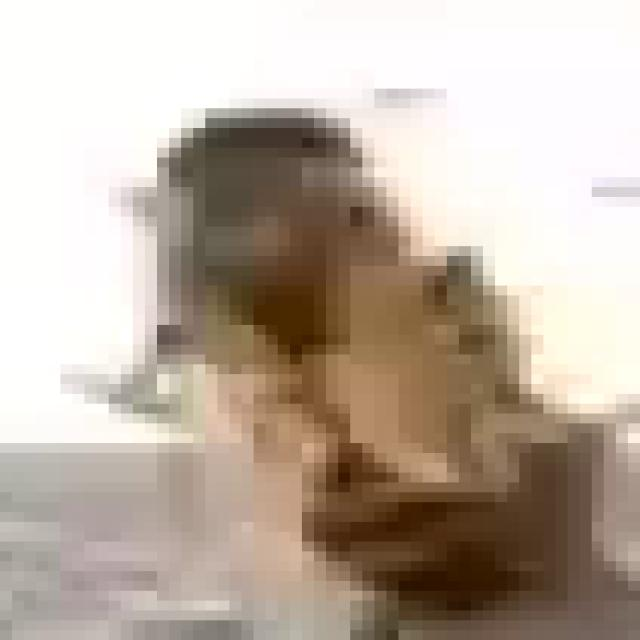honeybee: (148, 121, 603, 615)
